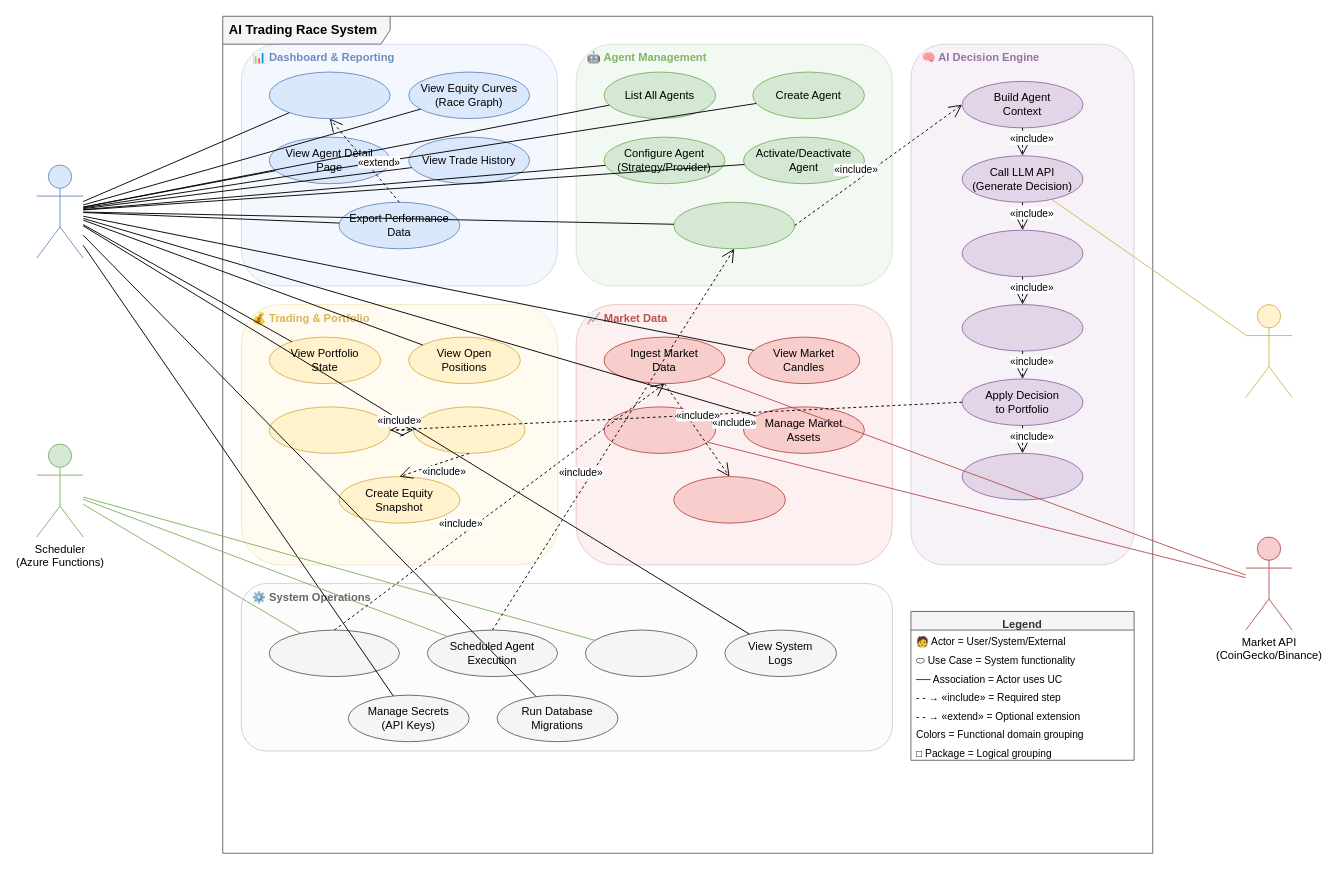
Image size: 1338x870. Some labels were removed from this diagram. The shapes that lost their labels are listed below. From the top down, each one's centre as x and y in pixels, then its label:
At point 329,95: "View Leaderboard".
At point 59,211: "Admin / User".
At point 734,225: "Run Agent Cycle (Manual)".
At point 1022,253: "Parse AI Response to Orders".
At point 1022,327: "Validate Orders (Risk Rules)".
At point 1268,351: "LLM Provider (GPT/Claude/Grok)".
At point 329,429: "Execute Trades (from Decision)".
At point 468,429: "Calculate PnL & Equity".
At point 659,429: "Get Latest Prices".
At point 1022,476: "Log Agent Decision".
At point 729,499: "Deduplicate Candles".
At point 333,653: "Scheduled Market Data Ingestion".
At point 641,653: "System Health Check".
